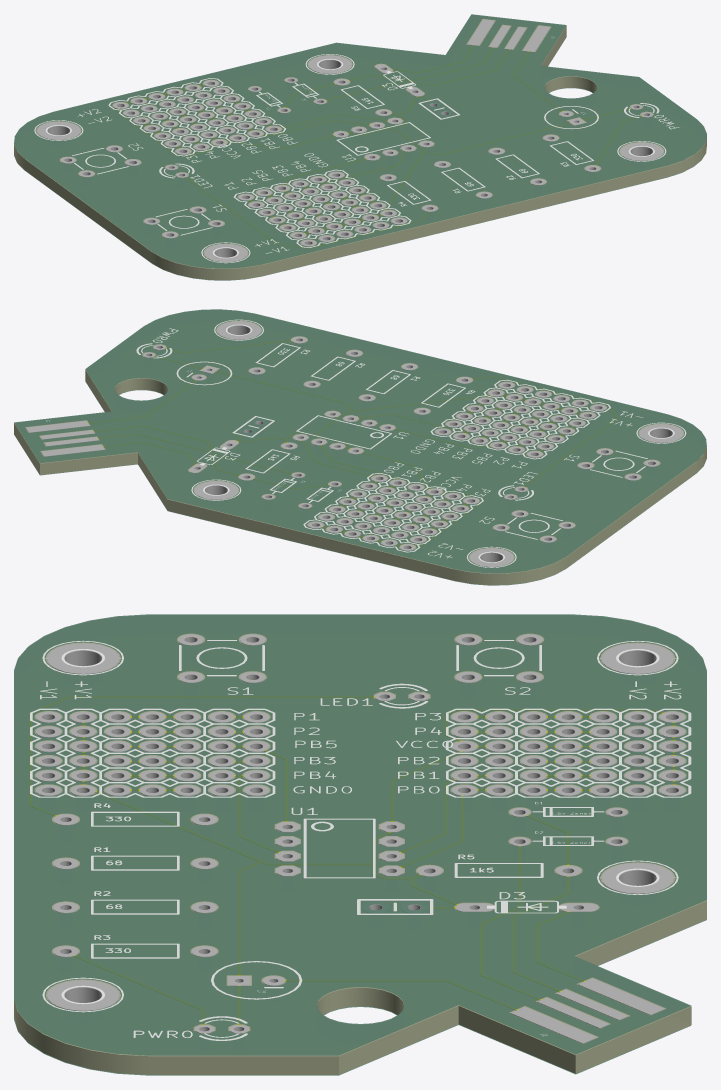
The model's file is 44con-2017-hidiot-1-0-badge.glb.
3 renders of one model, top to bottom at view 1: azimuth 30°, elevation 25°; view 2: azimuth 150°, elevation 25°; view 3: azimuth 270°, elevation 25°, orthographic. The views are drawn at different scales.
Parts seen in each view (by area): view 1: =>[0:1:1:5], =>[0:1:1:7], =>[0:1:1:2], =>[0:1:1:4]; view 2: =>[0:1:1:5], =>[0:1:1:7], =>[0:1:1:2], =>[0:1:1:4]; view 3: =>[0:1:1:5], =>[0:1:1:7], =>[0:1:1:2], =>[0:1:1:4].
Boxes of the visible parts, x1,y1,x2,y2 form: =>[0:1:1:5]: [14, 14, 706, 280]; =>[0:1:1:7]: [14, 15, 706, 280]; =>[0:1:1:2]: [37, 19, 663, 262]; =>[0:1:1:4]: [34, 36, 679, 263]; =>[0:1:1:5]: [14, 309, 706, 585]; =>[0:1:1:7]: [14, 310, 706, 585]; =>[0:1:1:2]: [26, 321, 683, 567]; =>[0:1:1:4]: [46, 319, 686, 567]; =>[0:1:1:5]: [14, 614, 706, 1075]; =>[0:1:1:7]: [14, 615, 706, 1074]; =>[0:1:1:2]: [30, 634, 685, 1043]; =>[0:1:1:4]: [30, 640, 691, 1040].
Size of the model in its own units: 0.0765 by 0.00163 by 0.0508.
4 materials, 4 textured.
